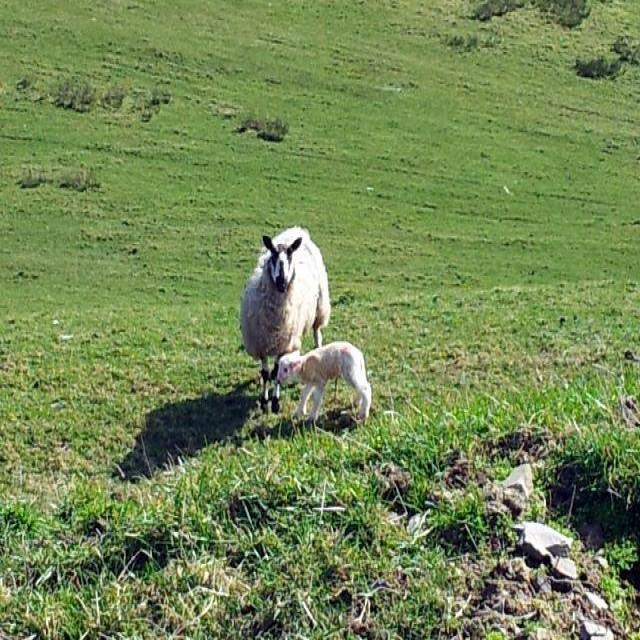Sheep: (239, 224, 332, 416), (275, 341, 371, 424)
